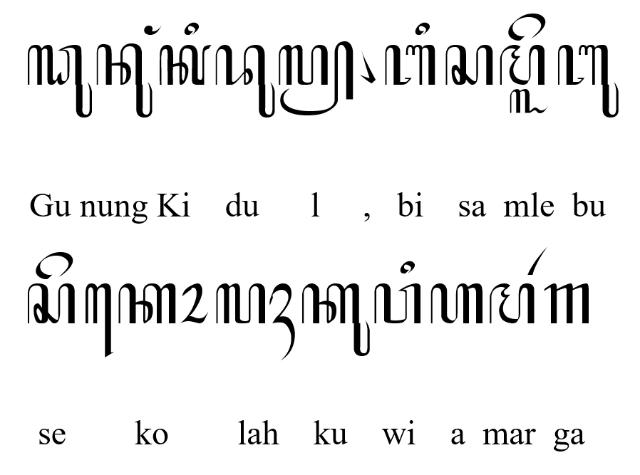-l: (278, 40, 354, 116)
G: (27, 45, 93, 118)
K: (159, 45, 211, 86)
_h1: (269, 283, 295, 361)
_l: (509, 88, 548, 114)
_r1: (528, 246, 548, 276)
b: (385, 45, 435, 86)
bu: (557, 44, 619, 118)
du: (216, 44, 276, 118)
e: (506, 13, 546, 42), (36, 252, 74, 281)
e1: (85, 282, 113, 358)
g: (543, 283, 589, 325)
h: (431, 283, 483, 325)
i: (184, 21, 200, 35), (414, 22, 430, 36), (400, 261, 416, 274)
k: (118, 282, 176, 324)
kom: (359, 50, 375, 84)
ku: (302, 283, 371, 357)
l: (216, 283, 266, 325)
m: (489, 282, 535, 326), (499, 44, 545, 86)
ng: (144, 25, 162, 35)
nu: (96, 44, 152, 118)
o: (180, 283, 208, 324)
s: (27, 282, 75, 324), (445, 45, 493, 86)
w: (374, 284, 422, 324)
